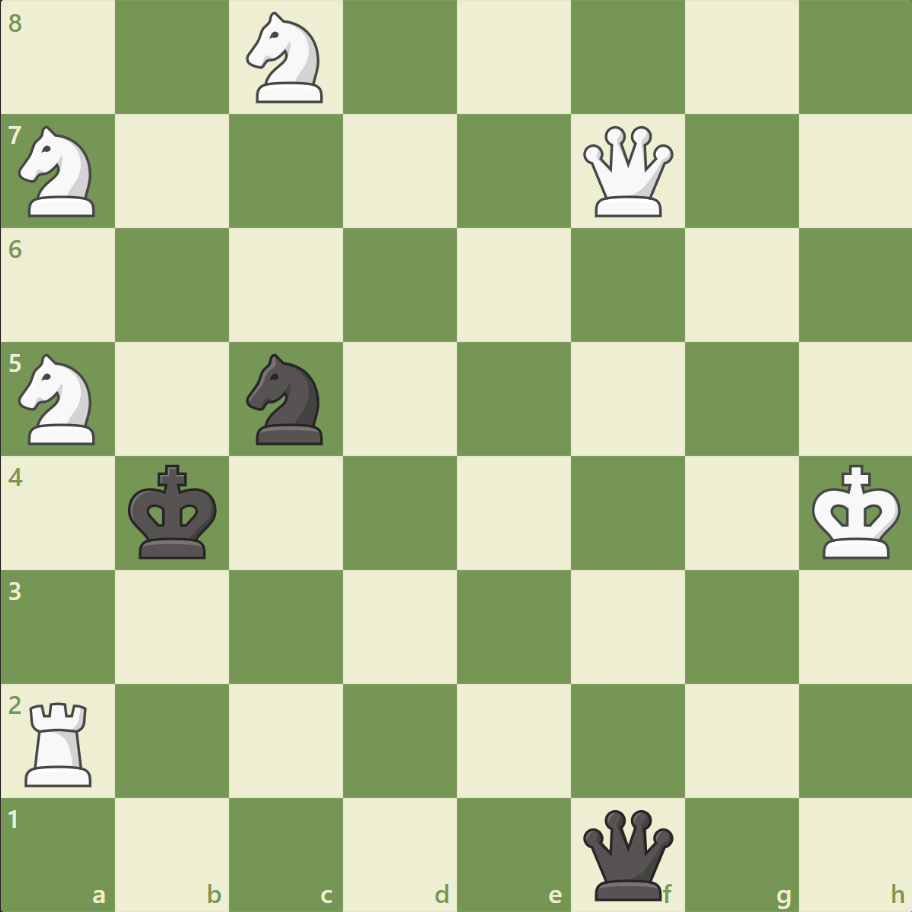K: (806, 458, 906, 566)
N: (238, 7, 335, 110), (11, 121, 108, 223), (11, 348, 108, 450)
Q: (578, 122, 677, 222)
R: (19, 693, 102, 790)
k: (124, 458, 224, 566)
n: (238, 348, 335, 450)
q: (578, 804, 677, 903)
